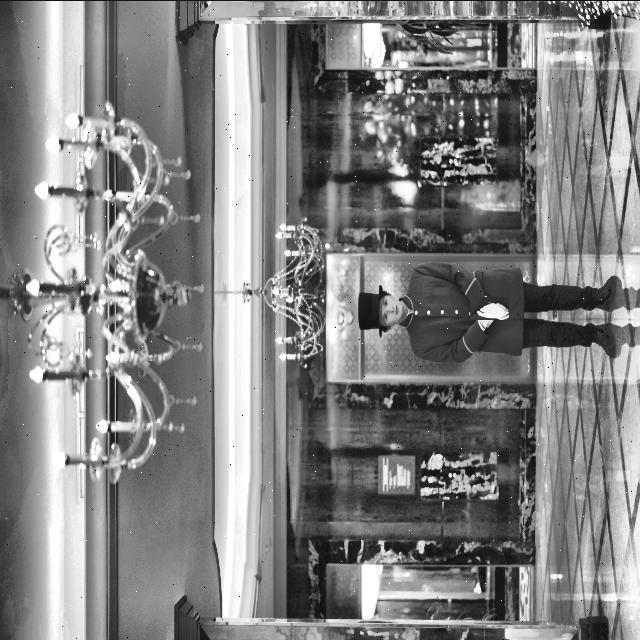gloved: (474, 292, 505, 324)
